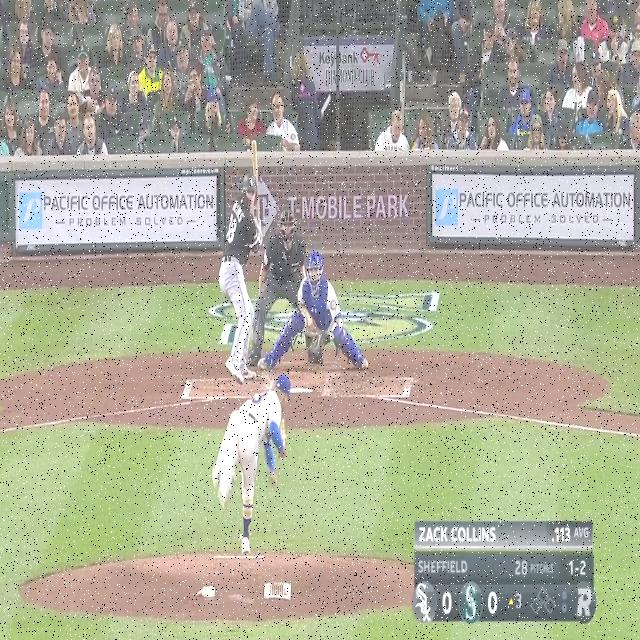baseball: (234, 291, 242, 304)
